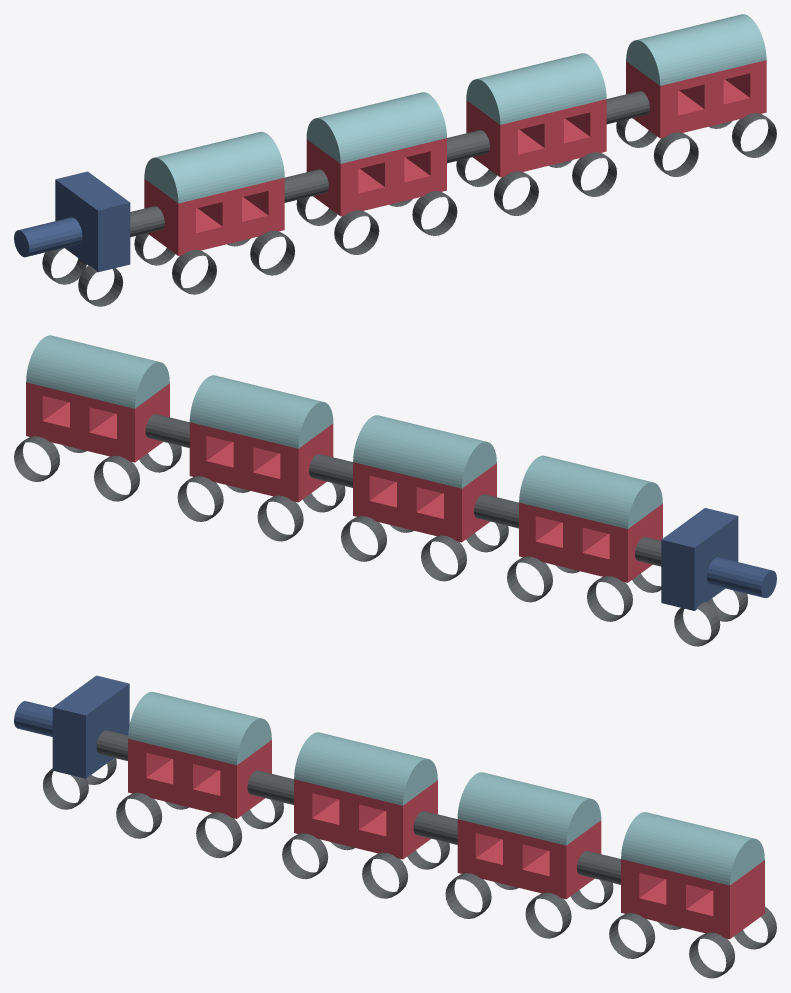
The model's file is c-150 train project.glb.
3 views of the same model, one above another, from view 1: azimuth 30°, elevation 25°; view 2: azimuth 150°, elevation 25°; view 3: azimuth 330°, elevation 25° (orthographic). The views are drawn at different scales.
Visible parts, largest first — view 1: Mesh_Mesh_head_geo.001_lambert2SG.001; view 2: Mesh_Mesh_head_geo.001_lambert2SG.001; view 3: Mesh_Mesh_head_geo.001_lambert2SG.001.
Boxes of the visible parts, box(x1,y1,x2,y2) form: Mesh_Mesh_head_geo.001_lambert2SG.001: box(14, 14, 776, 306); Mesh_Mesh_head_geo.001_lambert2SG.001: box(14, 335, 776, 646); Mesh_Mesh_head_geo.001_lambert2SG.001: box(14, 675, 776, 978).
Bounding box in the file's own units: 245 × 39 × 31.05.
